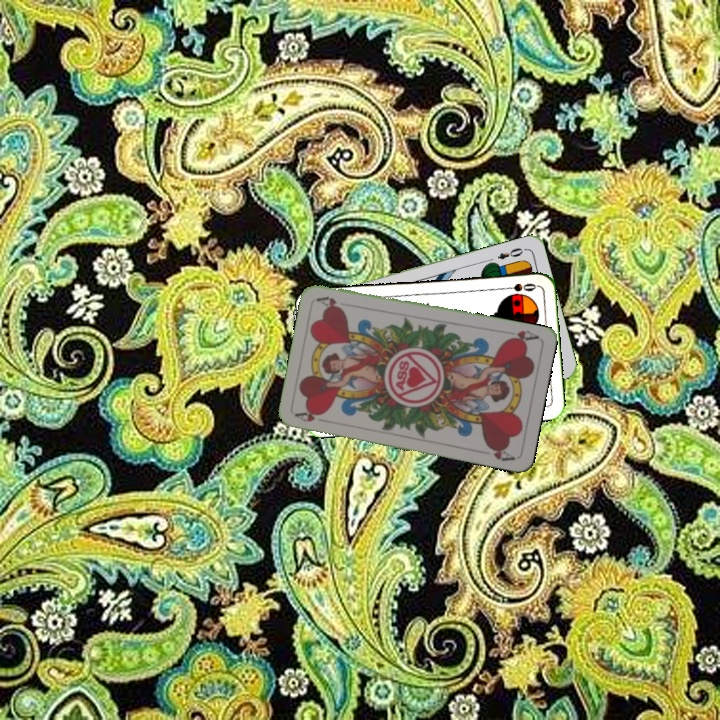EO: (493, 244, 529, 262)
HA: (501, 326, 541, 346), (292, 406, 332, 425)
SO: (499, 279, 539, 294)
